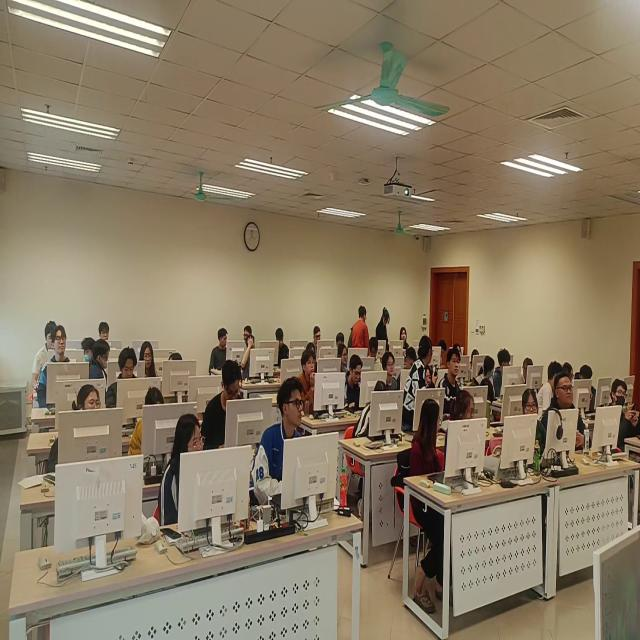raise_head: (252, 378, 309, 508), (157, 411, 210, 534), (47, 383, 102, 476), (549, 371, 592, 453), (38, 324, 73, 409), (298, 348, 325, 416), (440, 347, 466, 413), (141, 338, 158, 379), (382, 350, 399, 391), (98, 319, 112, 344), (399, 324, 409, 345), (454, 342, 463, 357)
stand: (404, 336, 433, 431), (348, 304, 369, 348), (376, 305, 391, 340)
using_computer: (201, 360, 248, 452), (129, 384, 167, 464), (107, 345, 140, 412), (356, 380, 392, 441), (522, 385, 548, 463), (33, 318, 60, 391), (344, 354, 370, 410), (275, 326, 293, 368), (369, 337, 383, 372), (437, 337, 448, 370), (338, 344, 350, 373), (405, 347, 418, 370), (313, 324, 324, 349), (471, 349, 481, 369), (336, 330, 346, 349)
using_phone: (607, 378, 640, 453)
